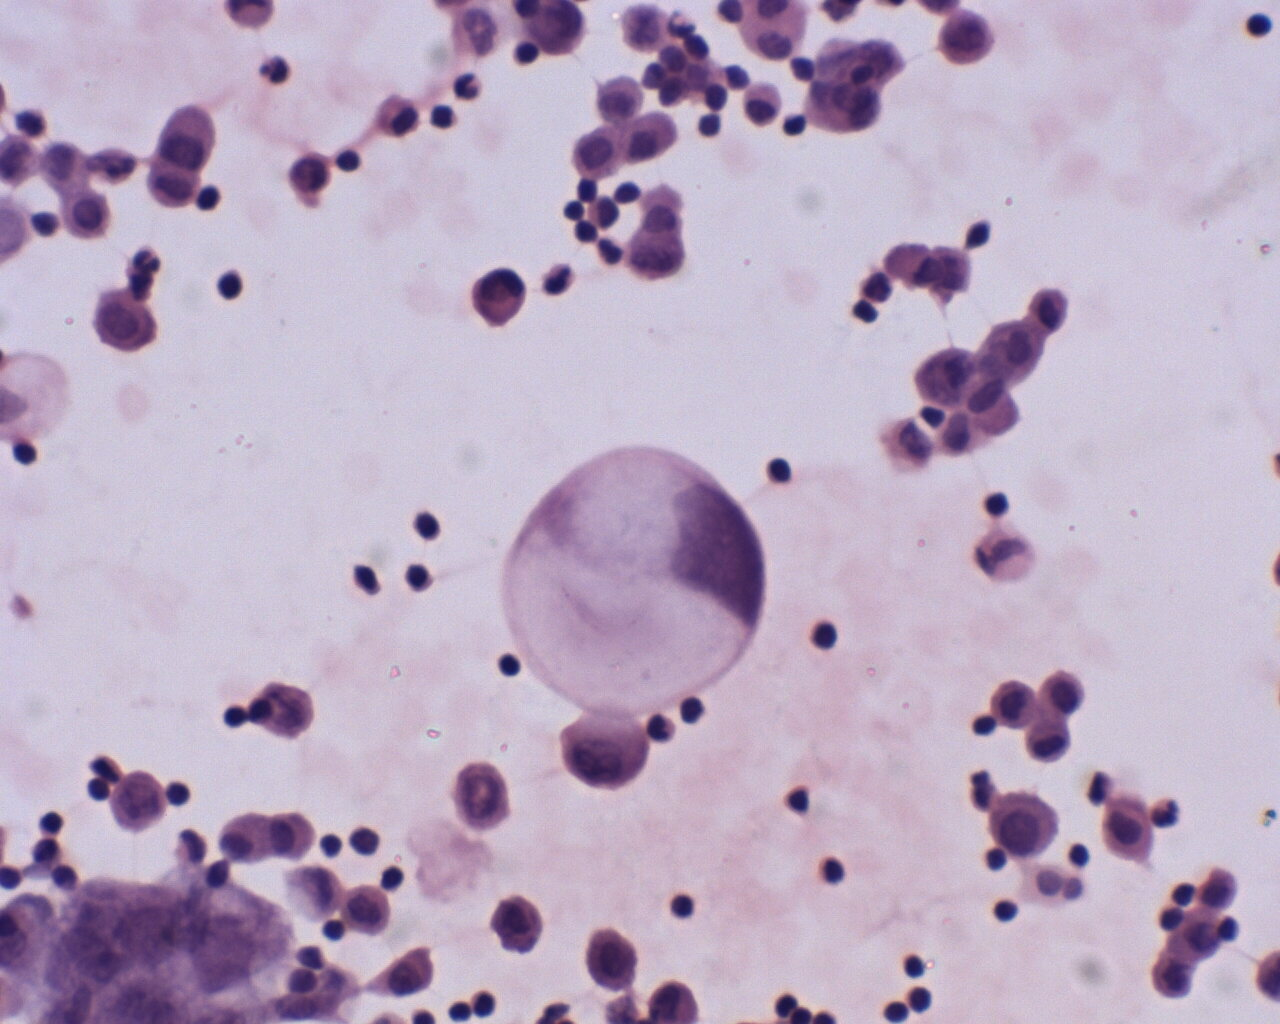ab: (501, 442, 765, 709), (558, 707, 650, 798), (447, 759, 517, 834), (985, 788, 1058, 859), (585, 923, 642, 992)
lymph: (665, 889, 702, 927), (815, 847, 850, 886), (8, 434, 44, 470), (213, 269, 251, 303), (763, 453, 796, 489), (806, 616, 838, 653), (990, 897, 1025, 927), (413, 507, 443, 538), (39, 807, 67, 835)
meso: (1103, 794, 1156, 864), (620, 107, 677, 165), (572, 125, 621, 183)
neutro: (452, 68, 485, 101)
